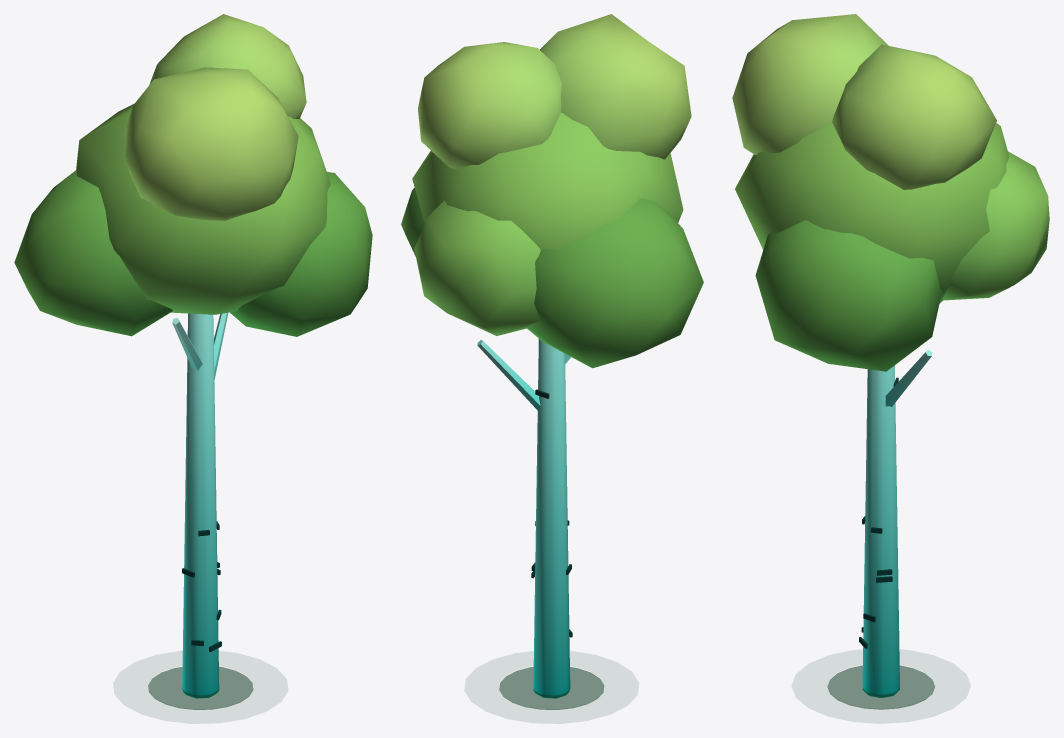
The model's file is birch.glb.
3 views of the same model, side by side, from view 1: azimuth 30°, elevation 25°; view 2: azimuth 150°, elevation 25°; view 3: azimuth 270°, elevation 25° (orthographic). The views are drawn at different scales.
Visible parts, largest first — view 1: birch; view 2: birch; view 3: birch.
Boxes of the visible parts, box(x1,y1,x2,y2) form: birch: box(14, 14, 372, 709); birch: box(401, 14, 703, 709); birch: box(732, 14, 1049, 709).
Bounding box in the file's own units: 1.77 × 3.65 × 1.59.
